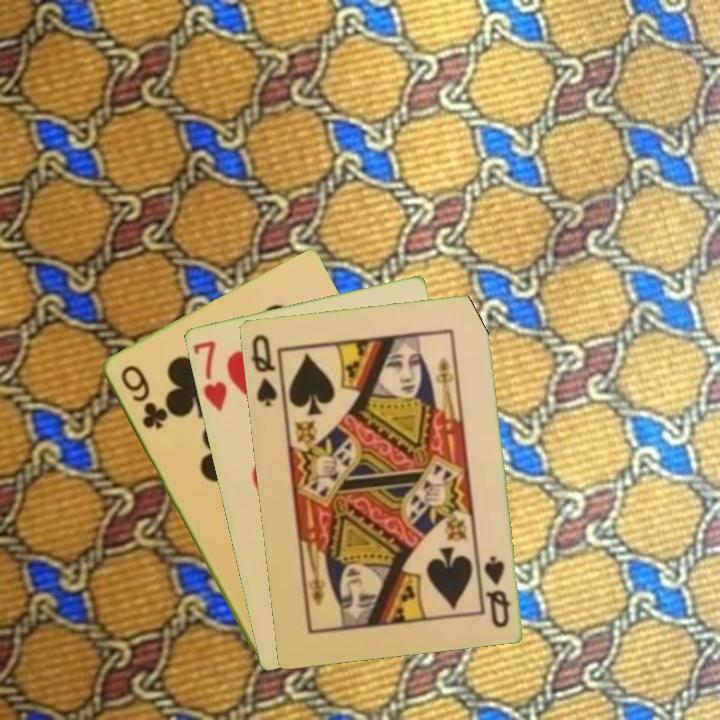7h: (189, 337, 229, 414)
9c: (116, 361, 168, 432)
Qs: (247, 331, 280, 410), (479, 552, 512, 630)
